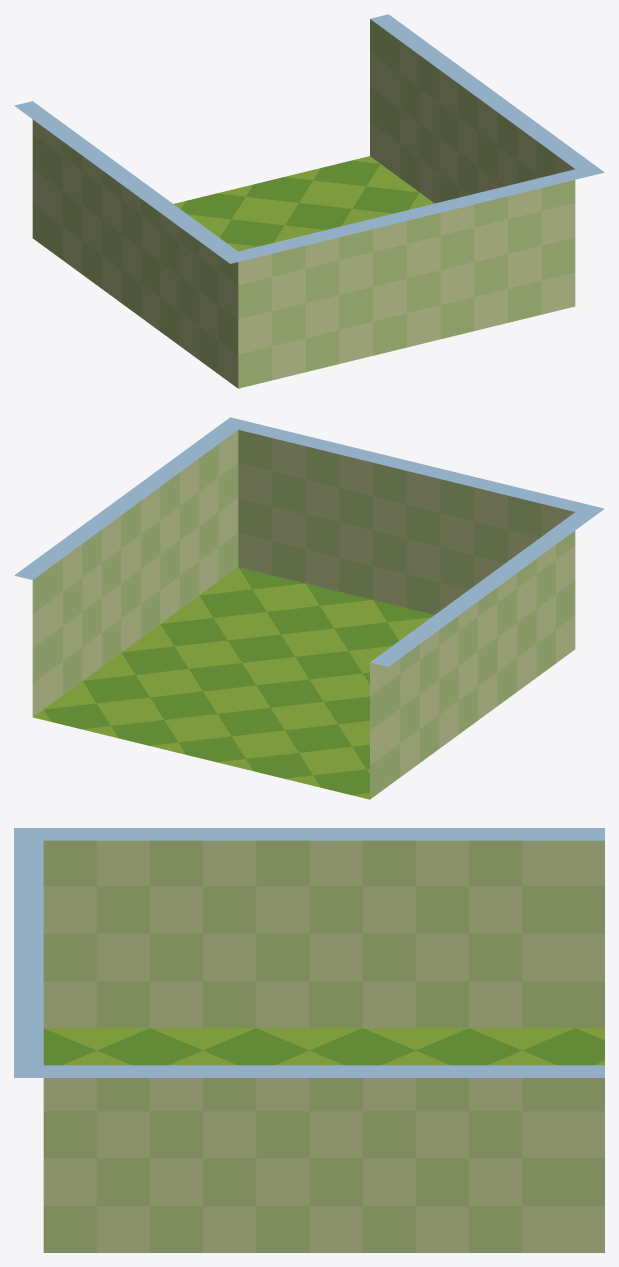
File: Soda.fbx
3 views of the same model, one above another, from view 1: azimuth 30°, elevation 25°; view 2: azimuth 150°, elevation 25°; view 3: azimuth 270°, elevation 25° (orthographic). The views are drawn at different scales.
Parts seen in each view (by area): view 1: SodaInsideWalls, SodaWallThick; view 2: SodaInsideWalls, SodaWallThick; view 3: SodaInsideWalls, SodaWallThick.
Part boxes in pixels (x1=…): SodaInsideWalls: x1=32, y1=19, x2=575, y2=388; SodaWallThick: x1=14, y1=14, x2=604, y2=263; SodaInsideWalls: x1=32, y1=430, x2=575, y2=799; SodaWallThick: x1=14, y1=417, x2=604, y2=666; SodaInsideWalls: x1=43, y1=840, x2=604, y2=1252; SodaWallThick: x1=14, y1=828, x2=604, y2=1077.
Bounding box in the file's own units: 600 × 210 × 600.
